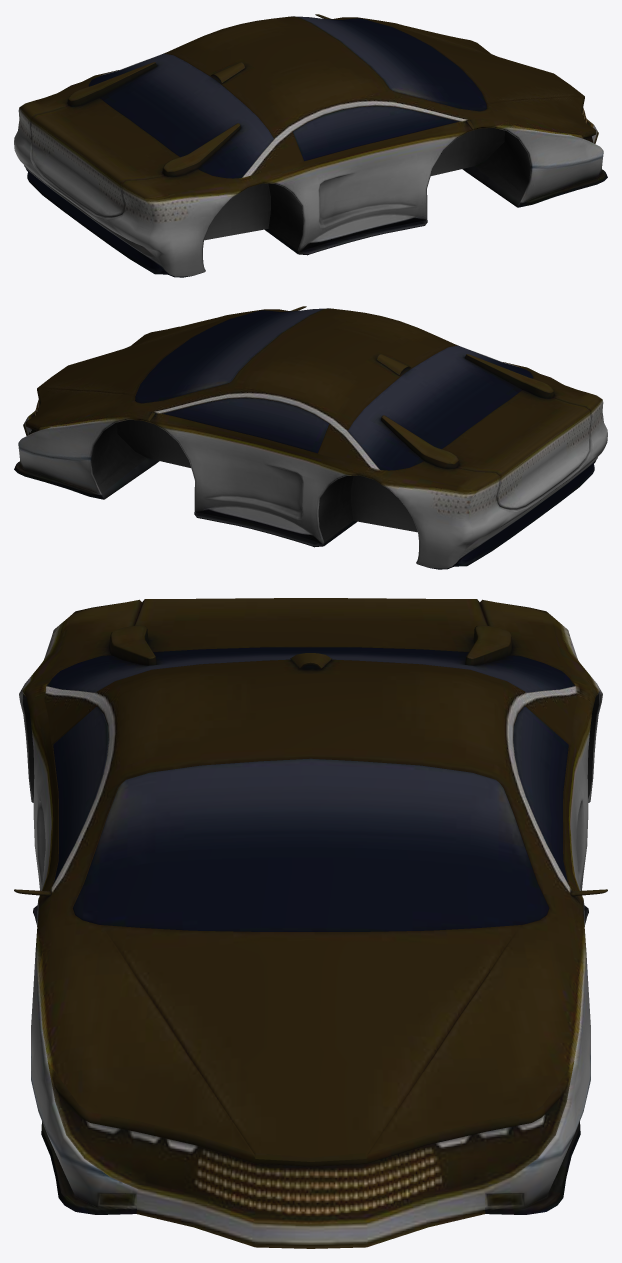
The model's file is f1_car_mercedes_06.dae.
The picture shows the model from 3 angles, top to bottom: view 1: azimuth 30°, elevation 25°; view 2: azimuth 150°, elevation 25°; view 3: azimuth 270°, elevation 25°; orthographic projection. The views are drawn at different scales.
Parts seen in each view (by area): view 1: car_body; view 2: car_body; view 3: car_body.
Boxes of the visible parts, bbox=[...] form: car_body: bbox=[14, 14, 607, 277]; car_body: bbox=[14, 306, 607, 569]; car_body: bbox=[14, 598, 607, 1248].
Bounding box in the file's own units: 0.3658 × 0.1927 × 0.0974.
Materials: 1 (1 with a texture image).
